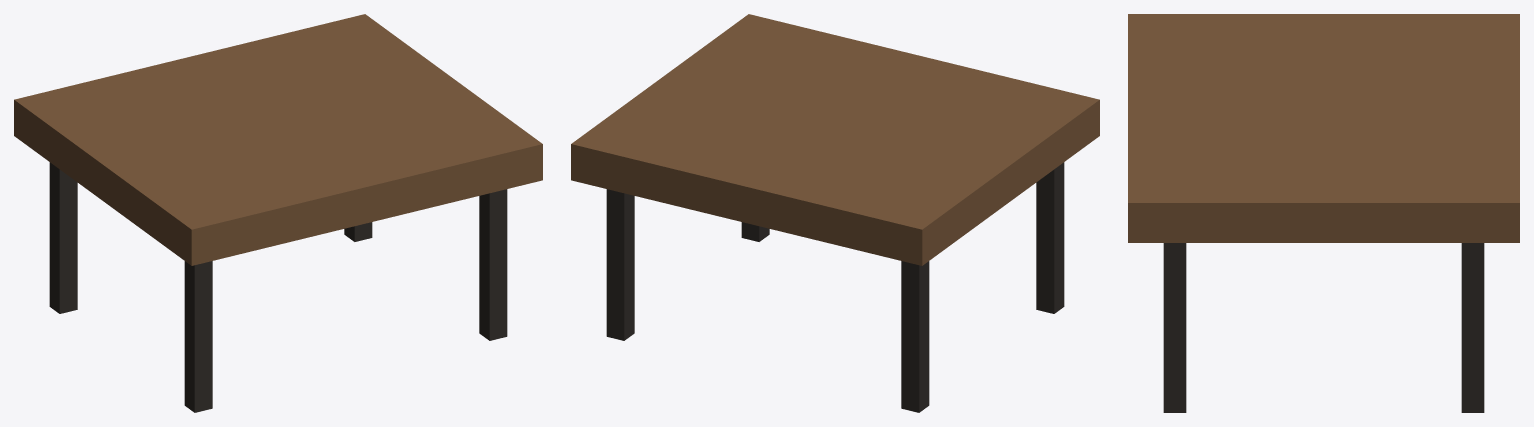
Rendered from nara.glb.
3 views of the same model, side by side, from view 1: azimuth 30°, elevation 25°; view 2: azimuth 150°, elevation 25°; view 3: azimuth 270°, elevation 25° (orthographic). The views are drawn at different scales.
Parts seen in each view (by area): view 1: table-top, leg-3, leg-4, leg-1; view 2: table-top, leg-1, leg-2, leg-3; view 3: table-top, leg-2, leg-4.
Part boxes in pixels (<box>): table-top: <box>14,14,542,265</box>; leg-3: <box>184,261,212,412</box>; leg-4: <box>479,189,507,340</box>; leg-1: <box>49,162,77,313</box>; table-top: <box>571,14,1099,265</box>; leg-1: <box>901,261,929,412</box>; leg-2: <box>606,189,634,340</box>; leg-3: <box>1036,162,1064,313</box>; table-top: <box>1128,14,1519,242</box>; leg-2: <box>1461,243,1484,412</box>; leg-4: <box>1163,243,1186,412</box>.
Bounding box in the file's own units: 0.89 × 0.484 × 0.78.
